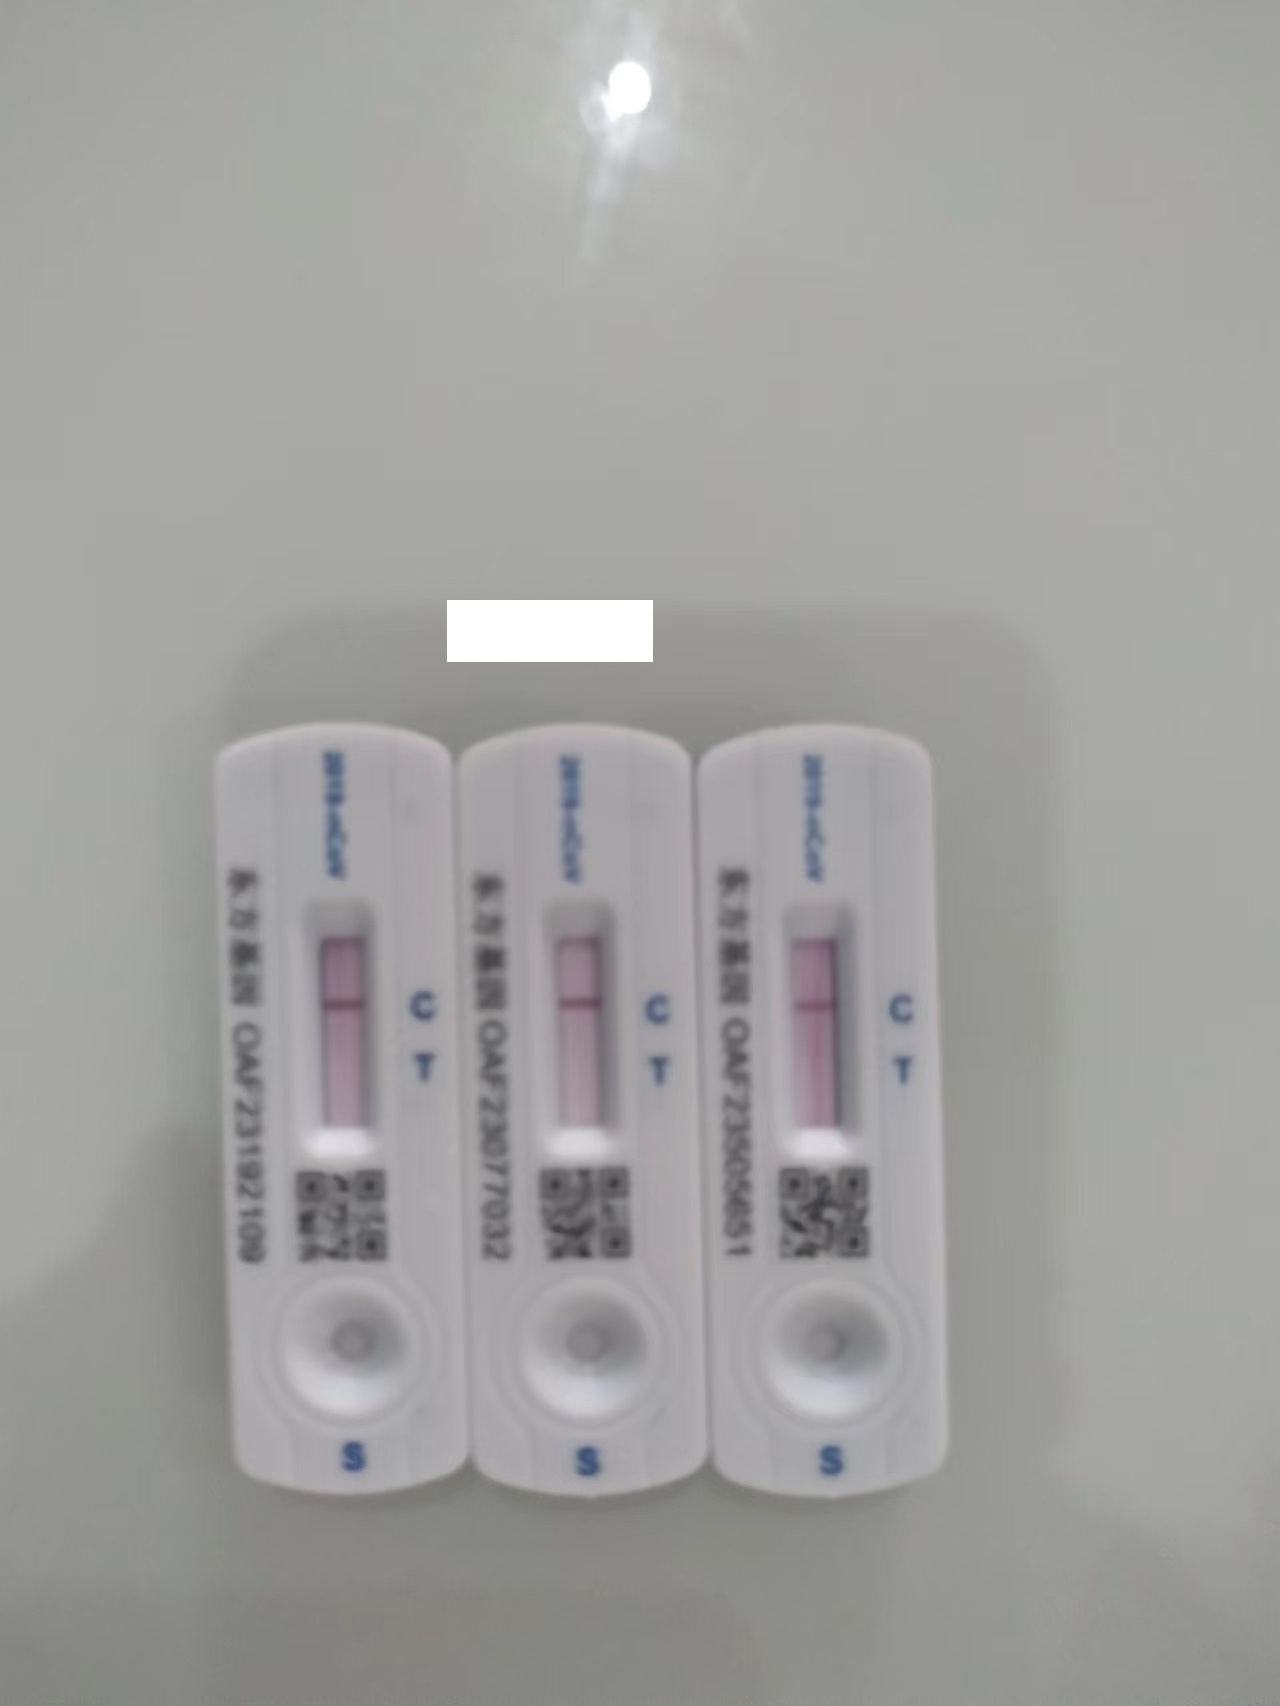negative: (294, 887, 382, 1162), (536, 887, 623, 1152), (776, 891, 858, 1157)
